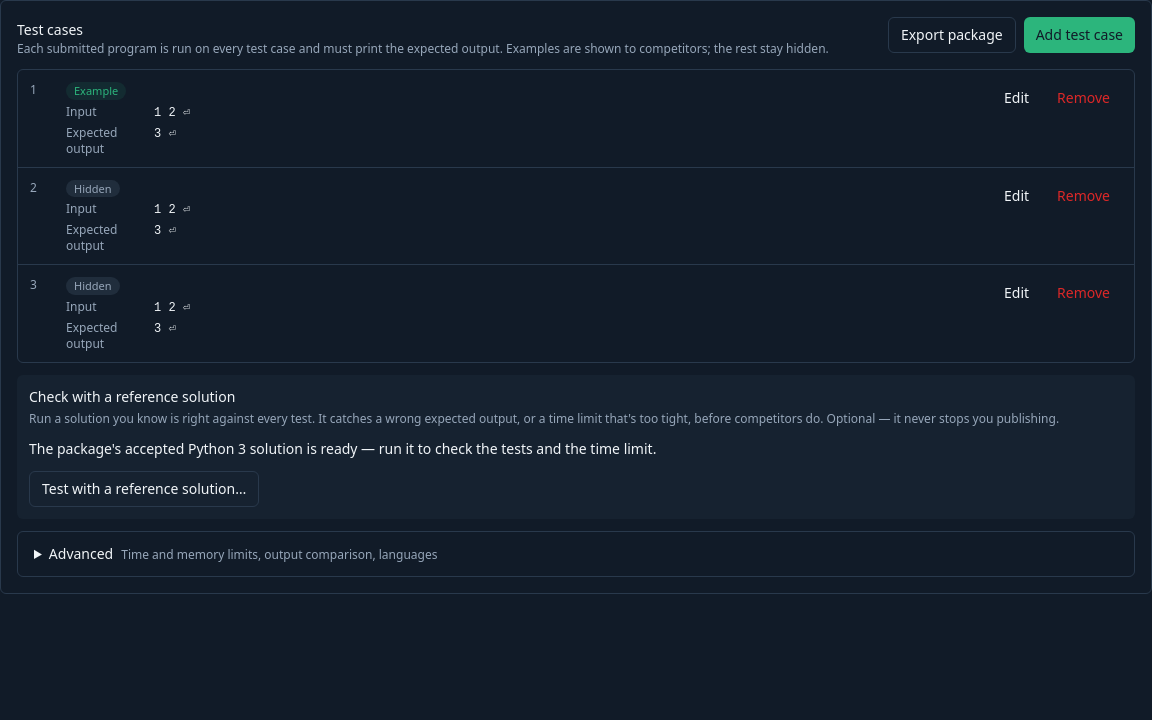
Test: the reference-solution check › offers the package's own solution before any check has run
Expected: the text "The package's accepted Python 3 solution is ready" is shown, x1=29 y1=439 x2=656 y2=458
Click the button "Test with a reference solution…".
click(144, 489)  # box x1=29 y1=471 x2=259 y2=507
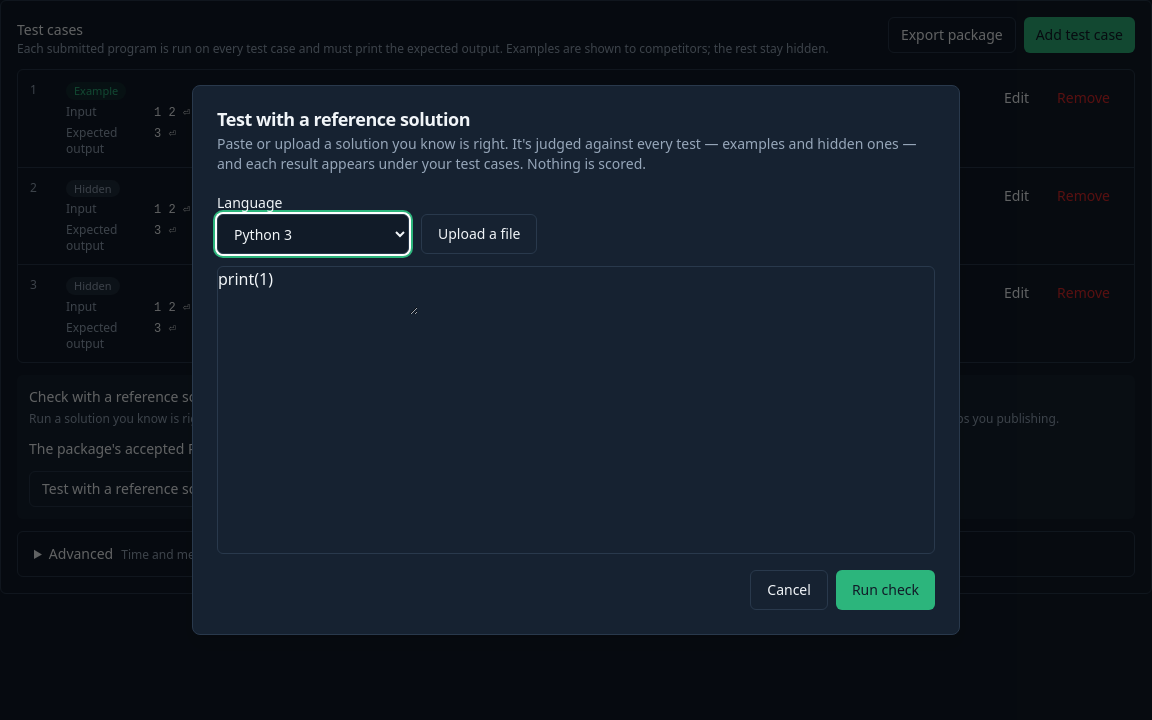
Expected: the text box named "Reference solution" holds "print(1)", x1=218 y1=267 x2=418 y2=315
